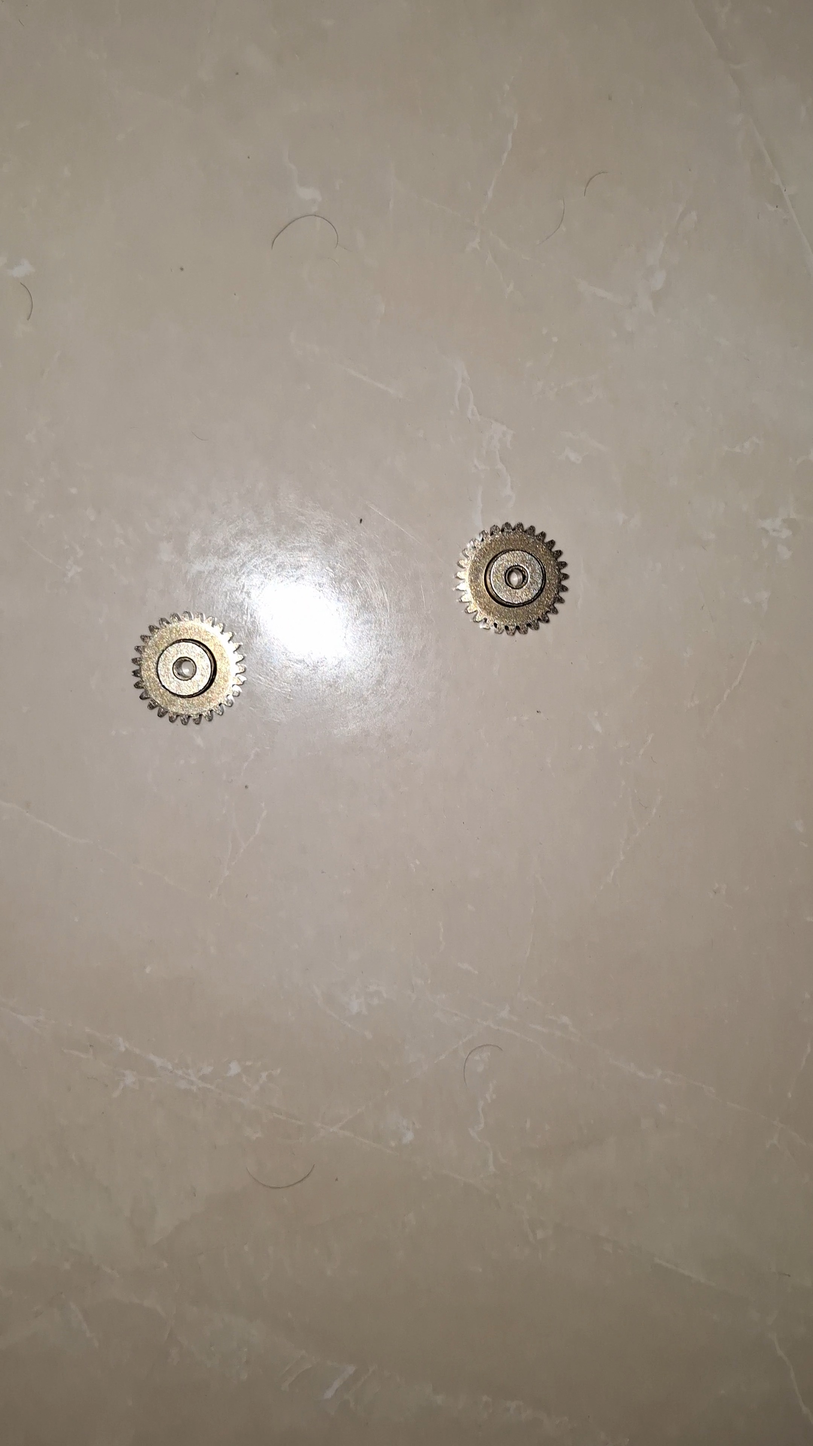spur gear: (132, 612, 245, 724), (457, 523, 568, 634)
